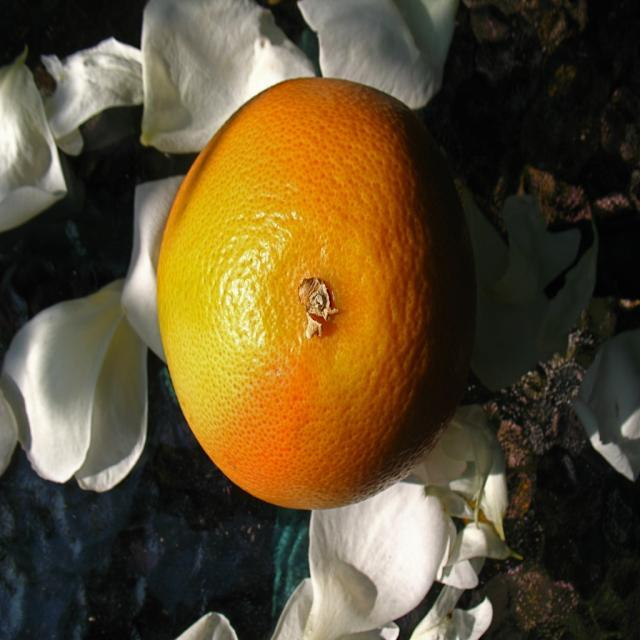Orange: (148, 77, 490, 506)
